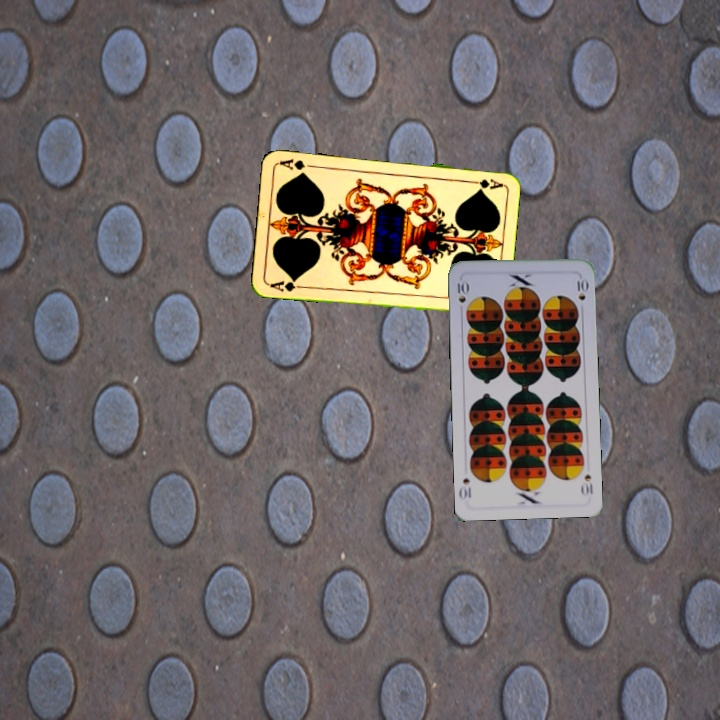GA: (265, 275, 306, 294), (464, 174, 504, 192)
S10: (452, 275, 470, 316), (578, 470, 595, 497)
